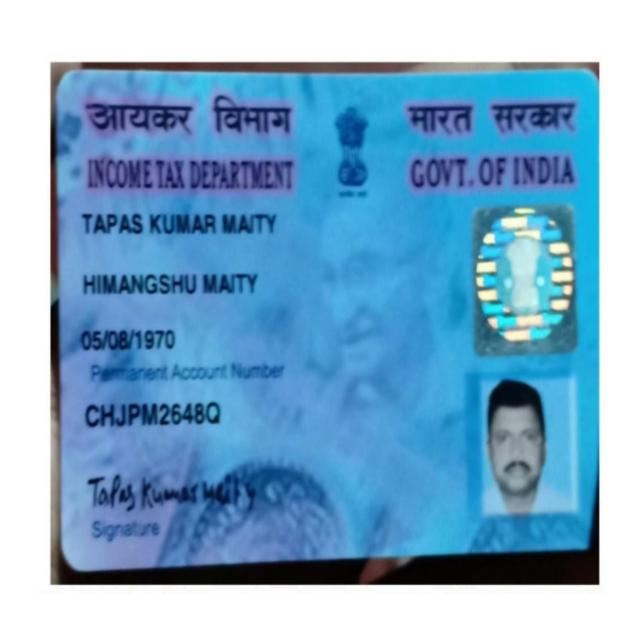pan_card: (56, 70, 597, 556)
